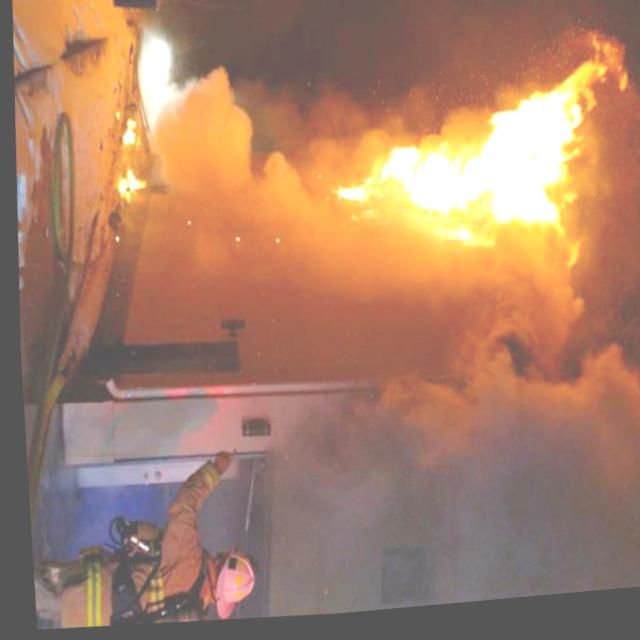Fire: (317, 33, 638, 288), (113, 170, 144, 207), (119, 120, 137, 151)
Smoke: (277, 259, 640, 622), (118, 59, 354, 376)
